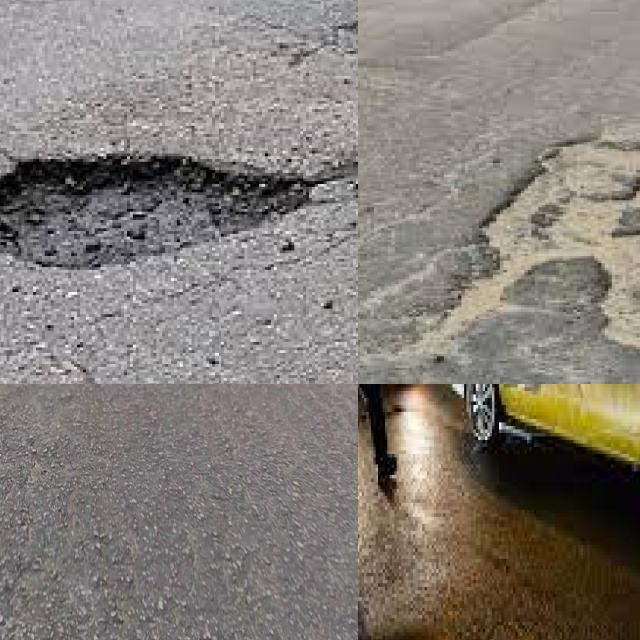Pothole: (0, 156, 309, 270), (479, 116, 570, 228), (594, 184, 640, 275), (584, 314, 640, 384)
